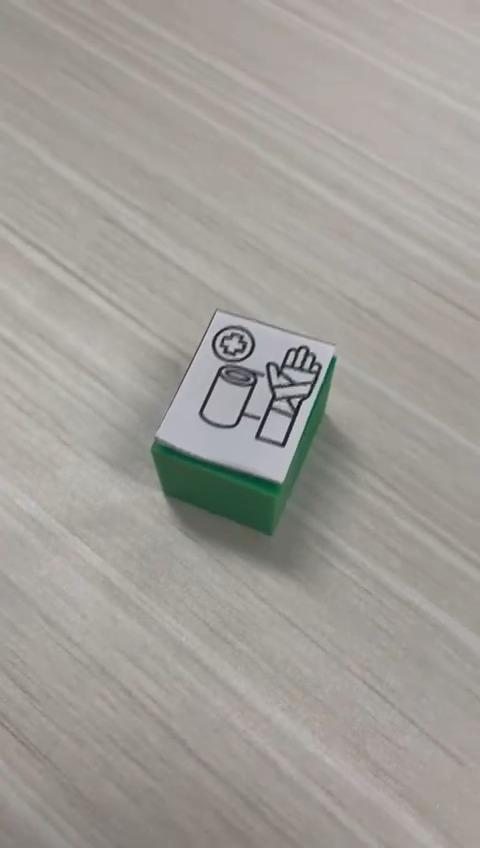Bandages: (151, 312, 337, 536)
